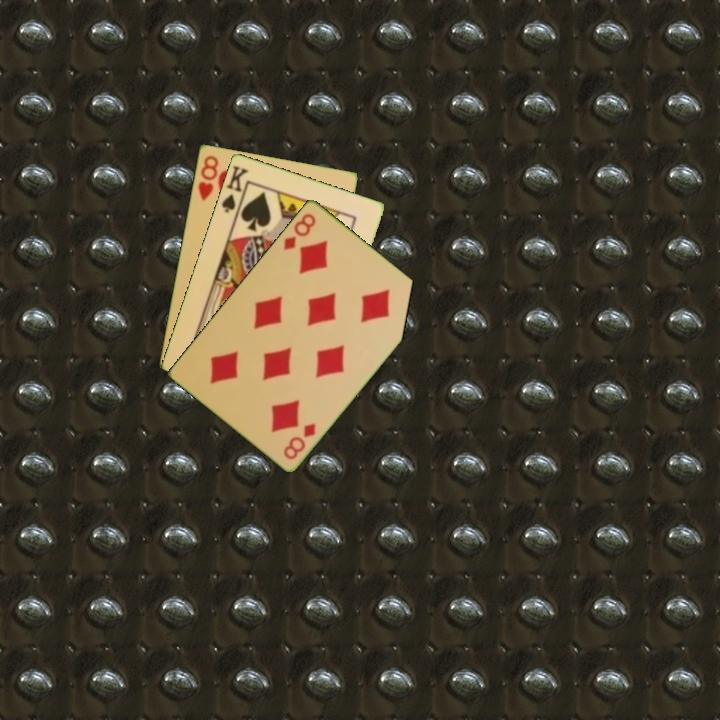8d: (280, 209, 319, 253), (280, 419, 319, 462)
8h: (194, 152, 221, 203)
Ks: (218, 162, 251, 215)
